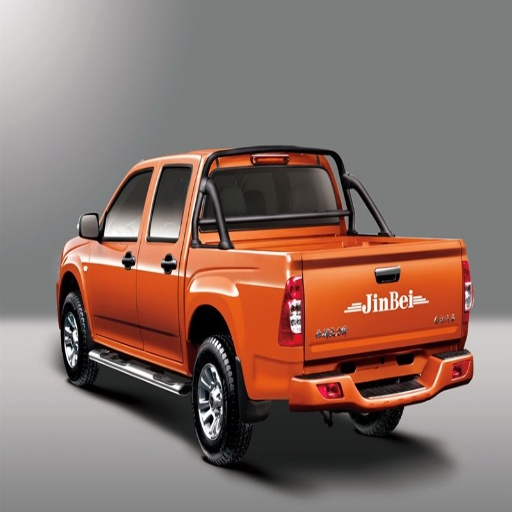back_bumper: (274, 343, 462, 408)
back_right_door: (88, 278, 139, 346)
trunk: (169, 223, 460, 396)
